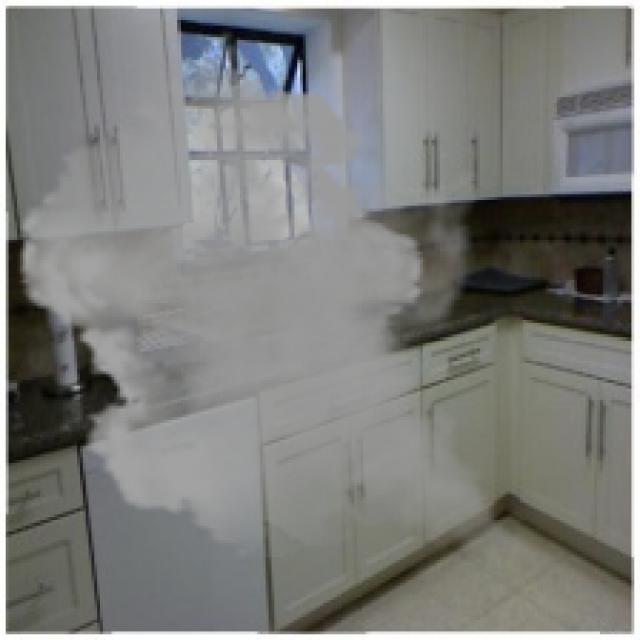smoke: (3, 29, 568, 577)
